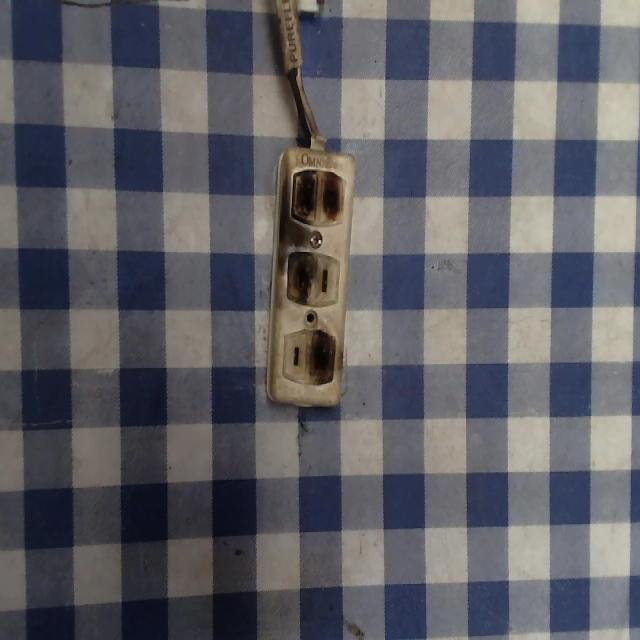-: (289, 164, 345, 227), (282, 249, 319, 308), (307, 328, 333, 387)
